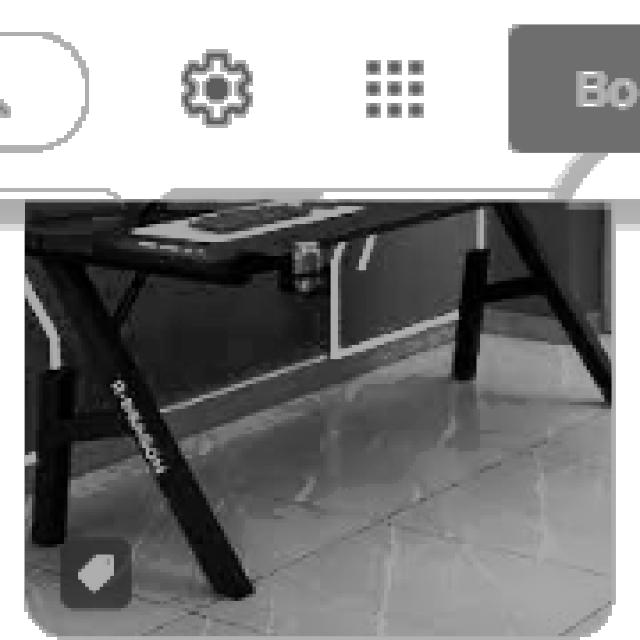table: (21, 195, 612, 598)
